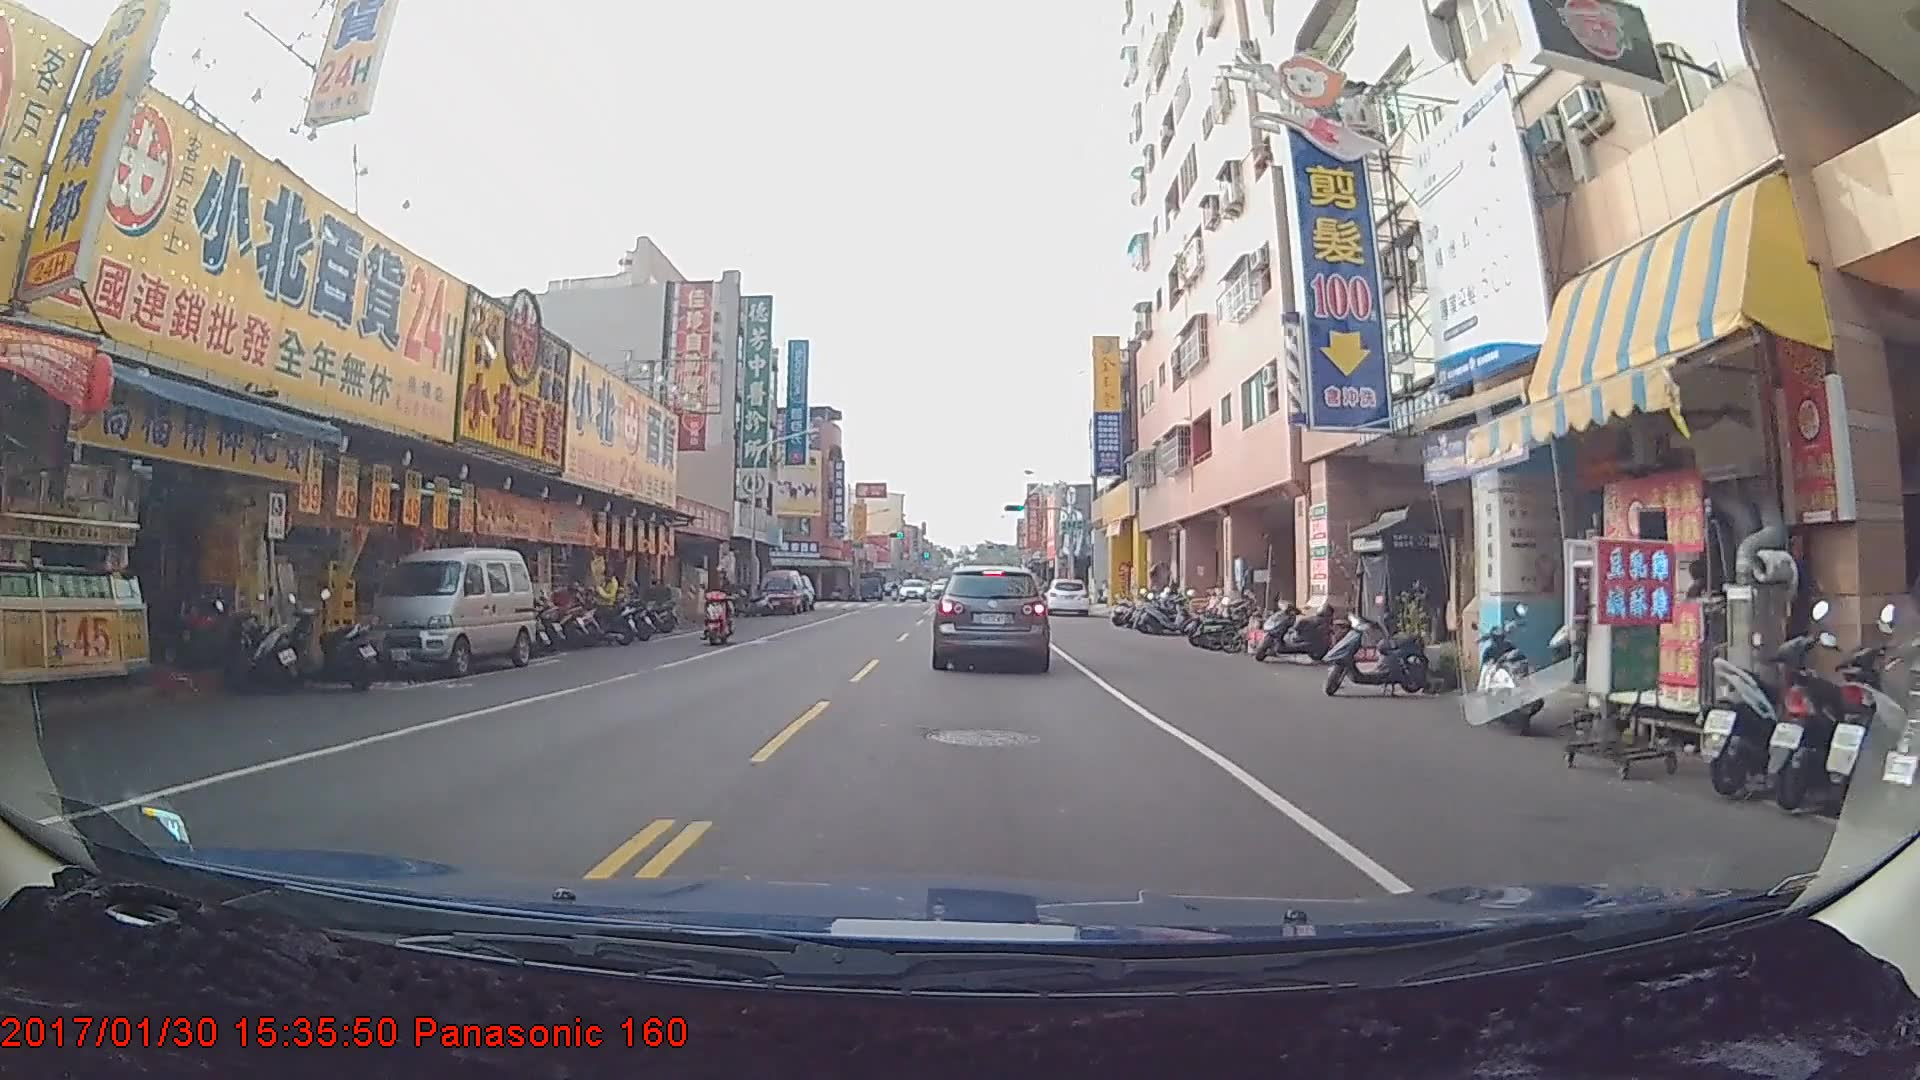pedestrian: (589, 565, 620, 637)
rider: (700, 562, 742, 648)
vehicle: (367, 548, 536, 678), (932, 563, 1049, 671), (755, 570, 806, 614), (1042, 577, 1089, 618), (896, 580, 926, 603)
